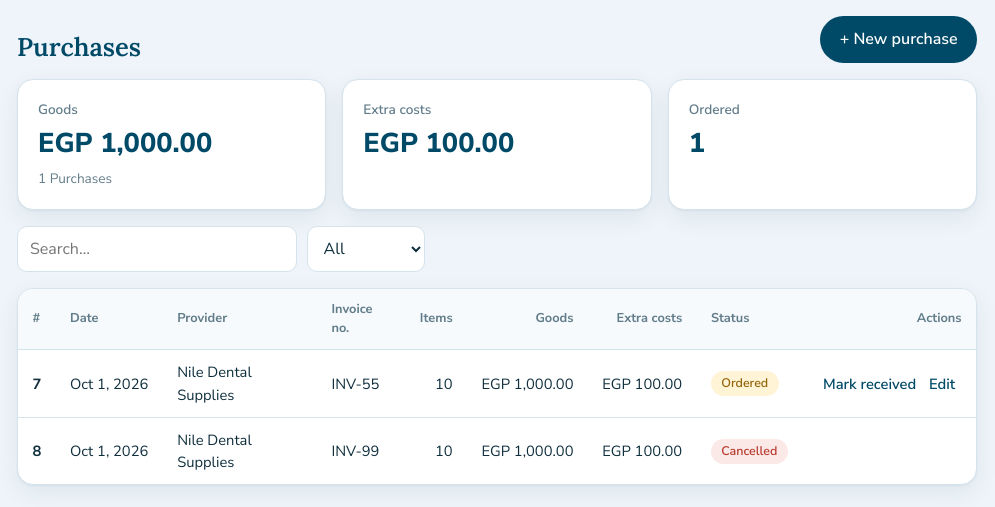
Test: Purchases page › status filter narrows the list
This screenshot has width=995, height=507.
expect the text "INV-99" is shown: met, box [317, 417, 405, 484]
Select "Cancelled" in the dropdown at (366, 249), box [307, 226, 425, 272]
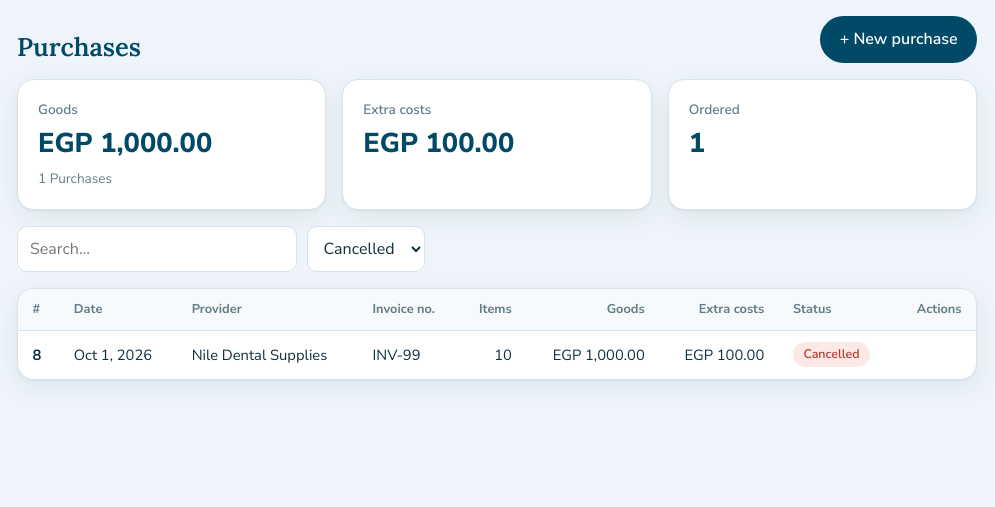
expect the text "INV-99" is shown: met, box [358, 331, 458, 379]
expect the text "INV-55" is gone: met
